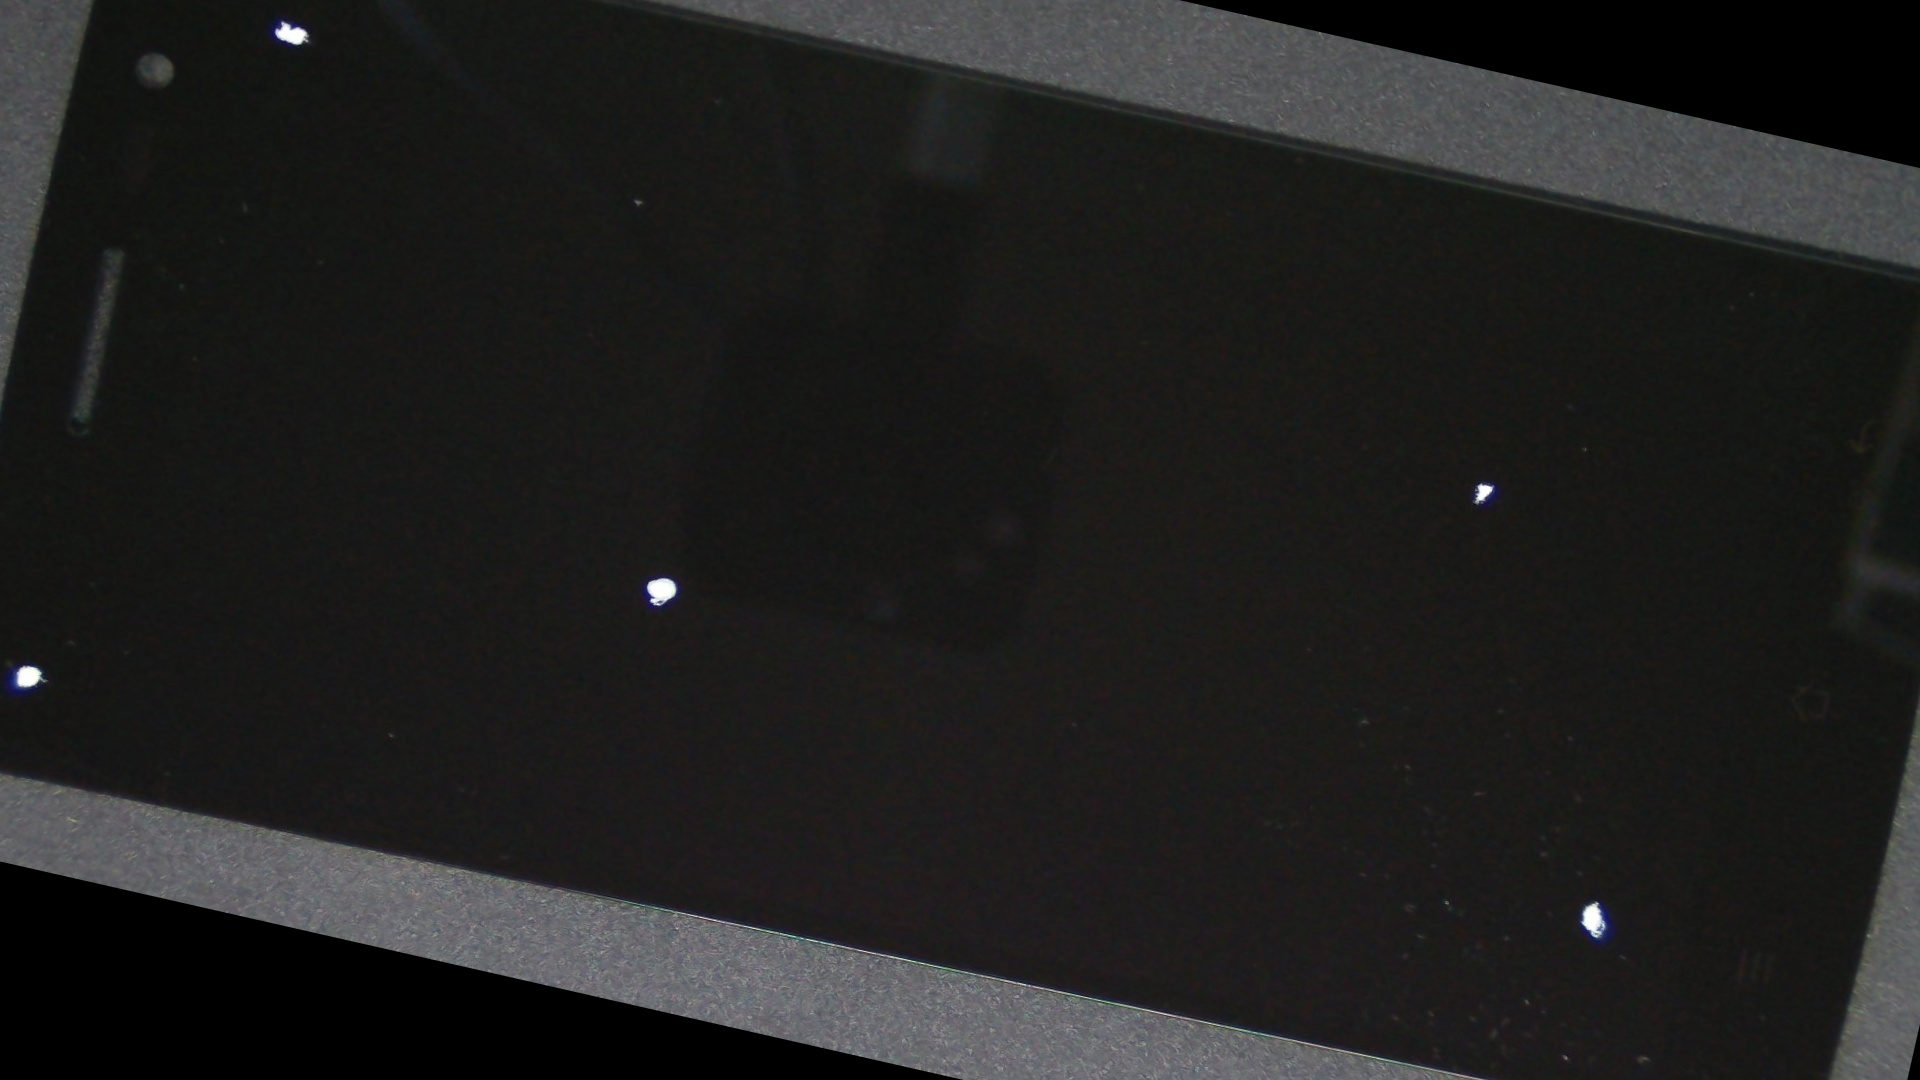oil: (650, 318, 1920, 1080), (665, 108, 1920, 796), (191, 156, 1137, 997), (0, 199, 229, 881), (102, 0, 462, 161)
